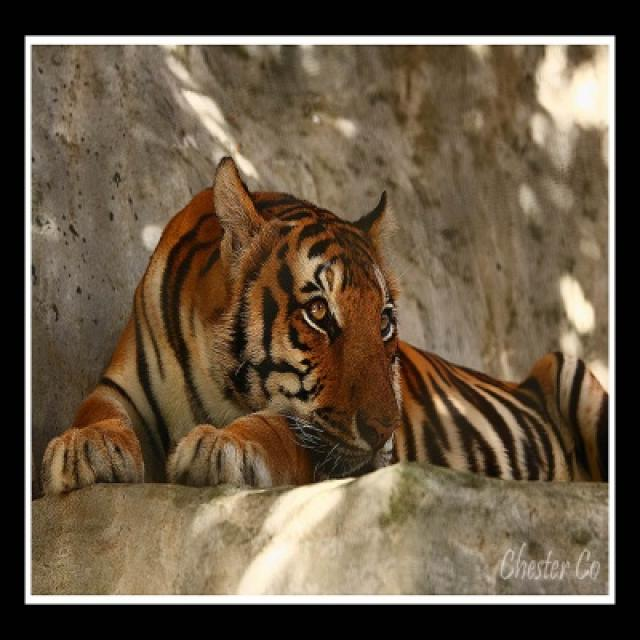Tiger: (37, 155, 609, 497)
